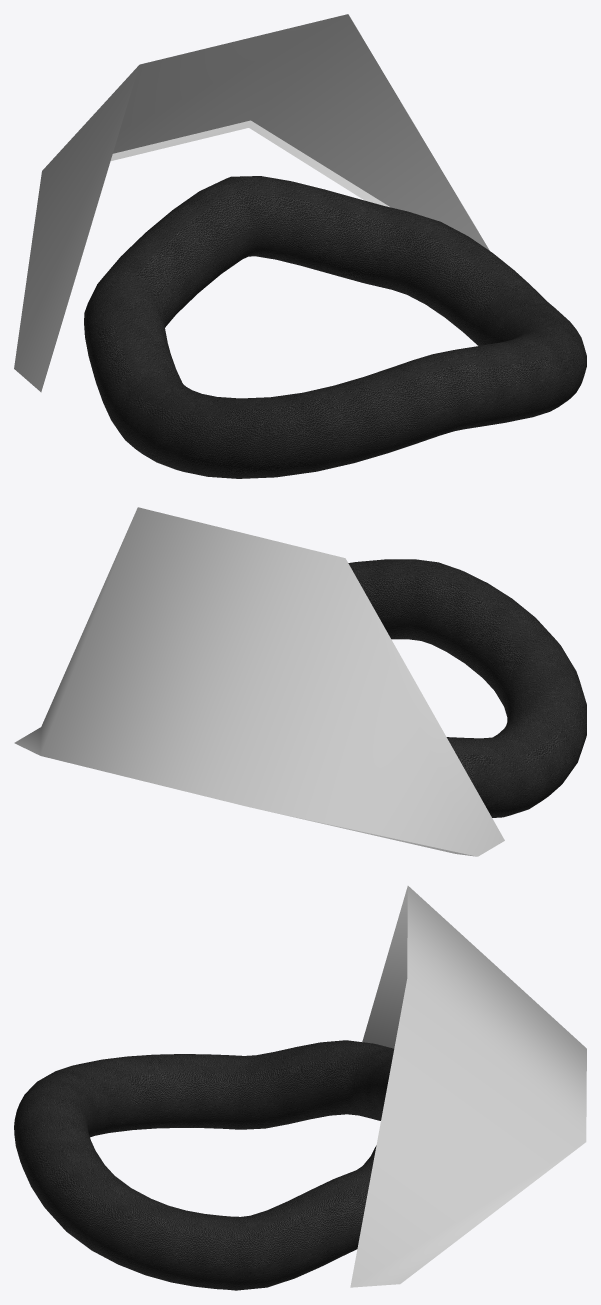
The model's file is Nieuport28_details.FBX.
3 views of the same model, one above another, from view 1: azimuth 30°, elevation 25°; view 2: azimuth 150°, elevation 25°; view 3: azimuth 270°, elevation 25° (orthographic). The views are drawn at different scales.
Visible parts, largest first — view 1: Loft01, Tube02; view 2: Tube02, Loft01; view 3: Tube02, Loft01.
Part boxes in pixels (box(x1,y1,x2,y2)): Loft01: box(84, 176, 586, 478); Tube02: box(14, 14, 489, 392); Tube02: box(14, 507, 504, 856); Loft01: box(348, 559, 586, 817); Tube02: box(350, 886, 586, 1287); Loft01: box(14, 1040, 394, 1290).
Bounding box in the file's own units: 26.42 × 16.25 × 30.69.
